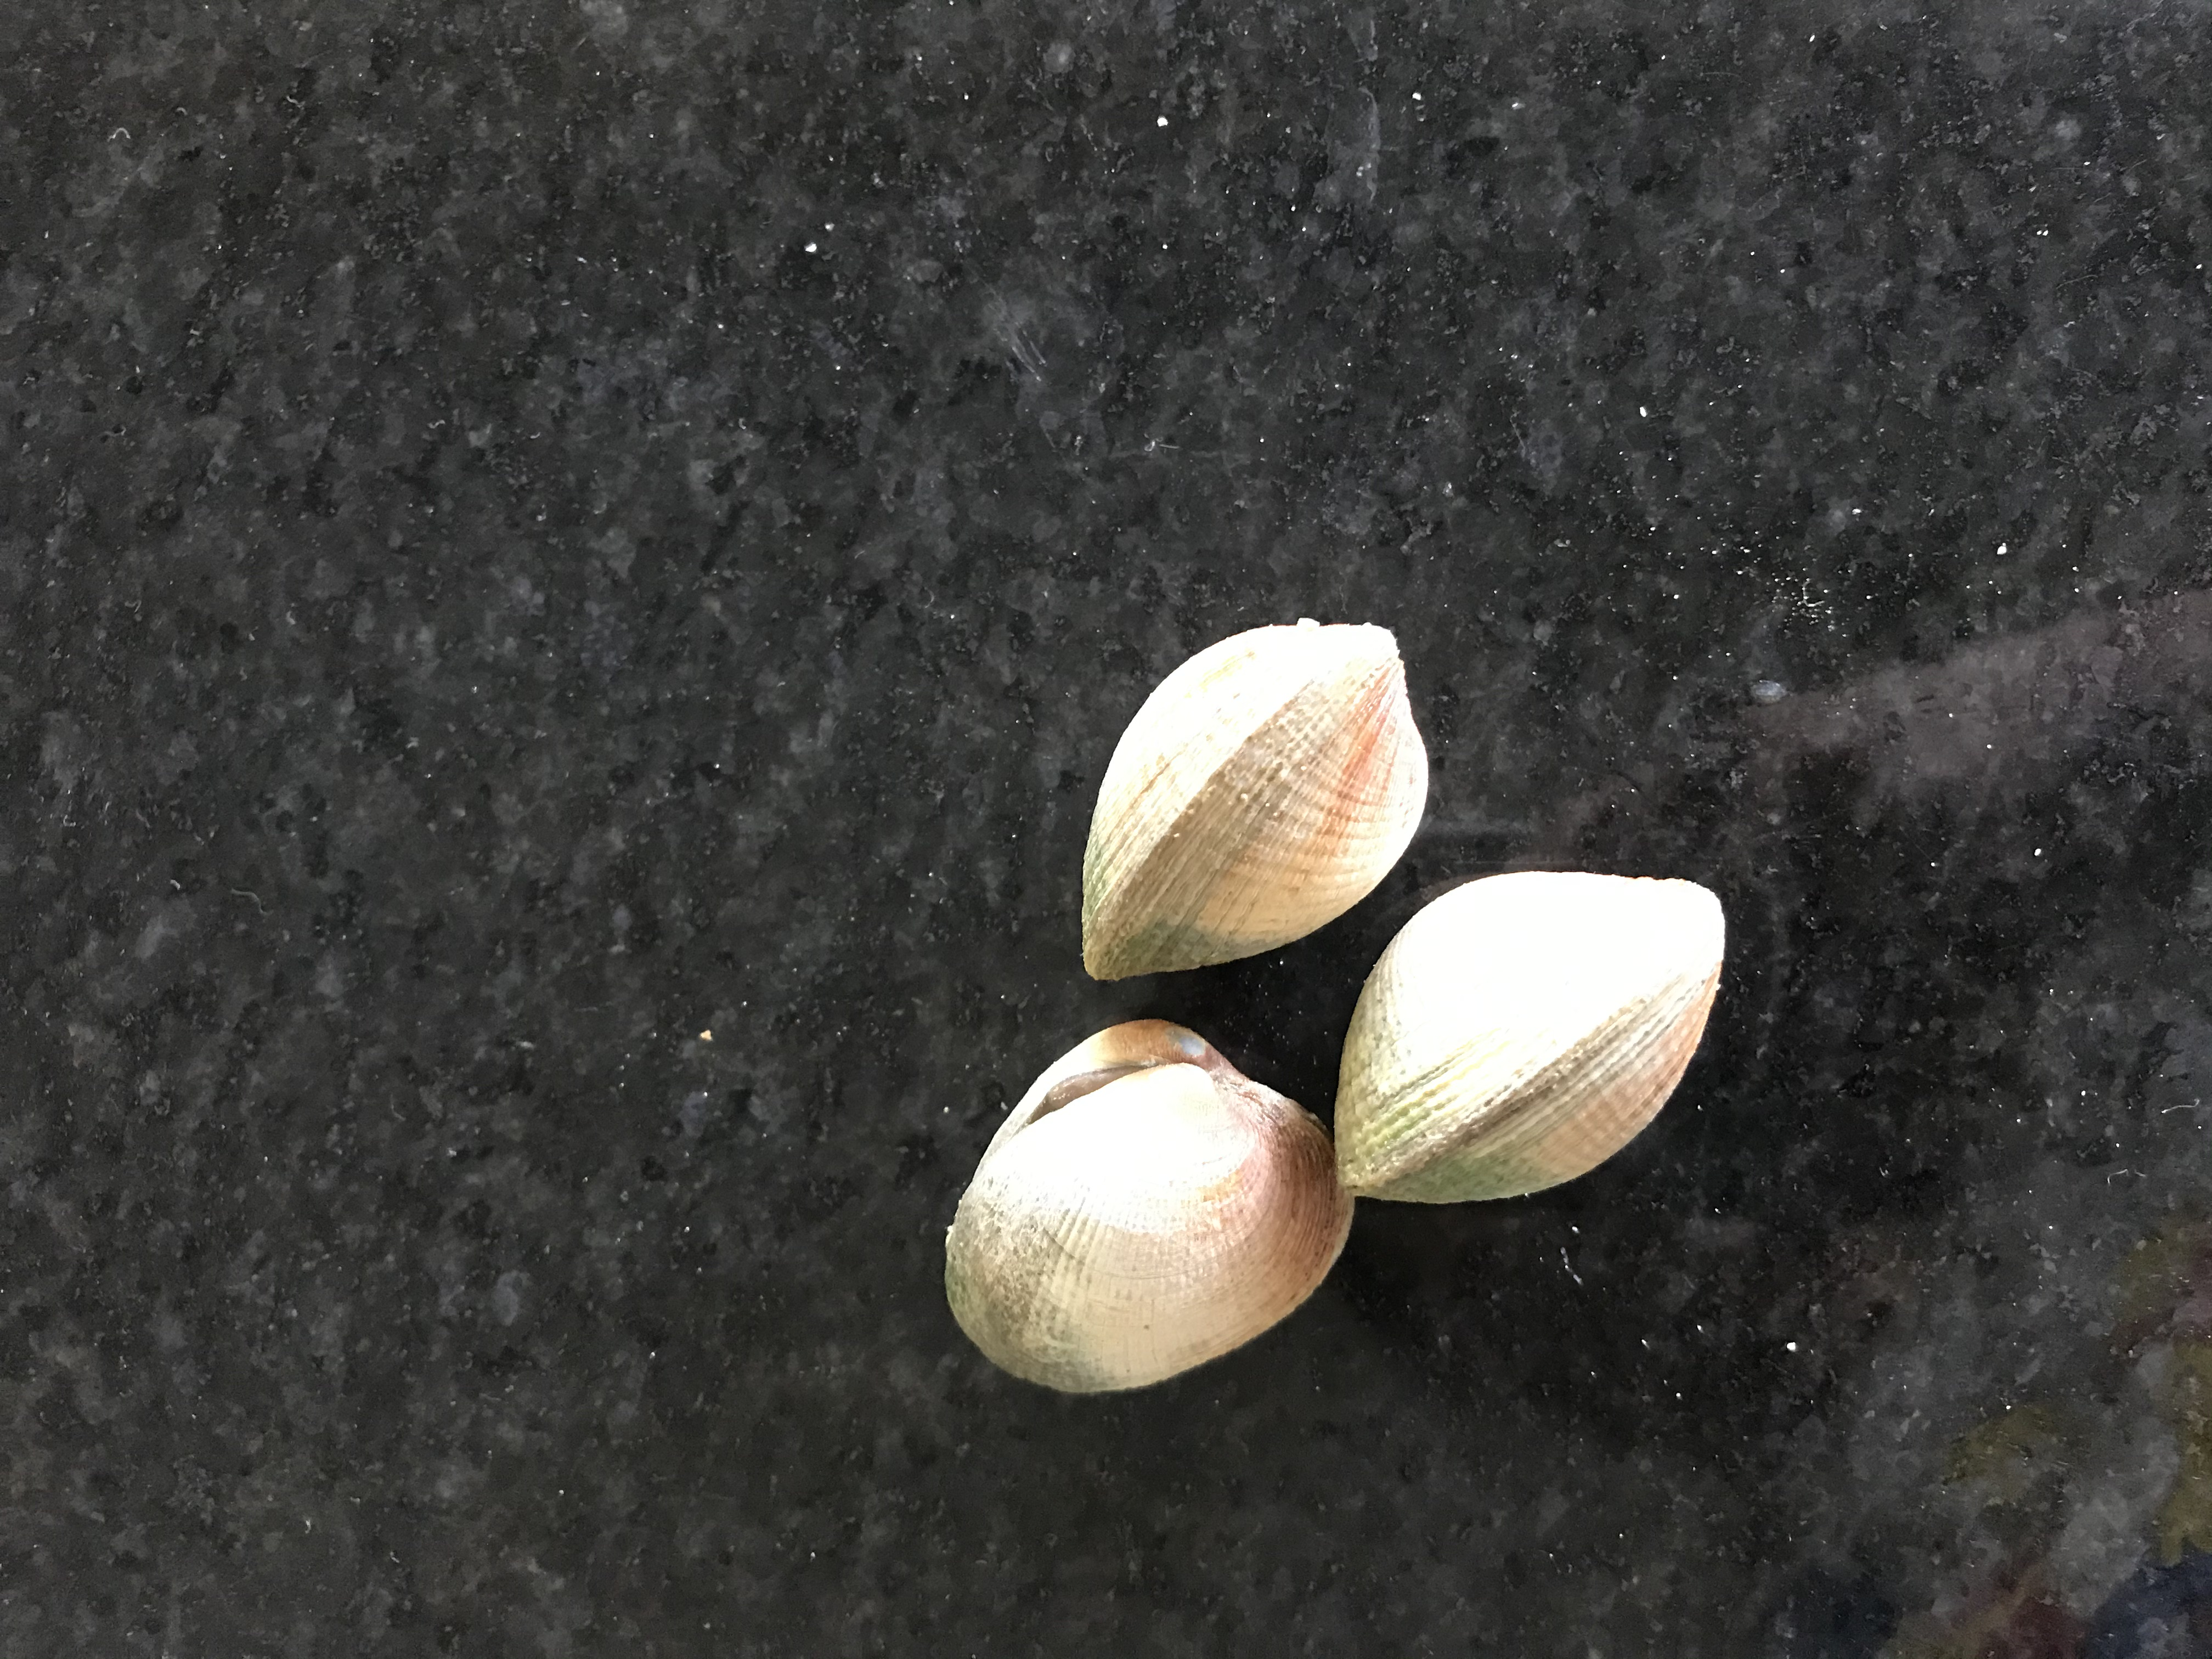cockle: (934, 1012, 1357, 1387), (1327, 866, 1733, 1220), (1071, 612, 1437, 986)
